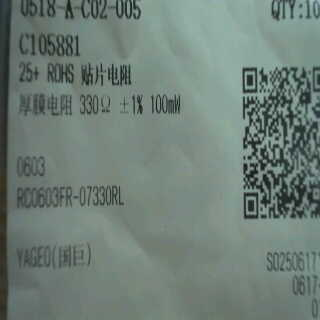330R: (77, 89, 115, 118)
